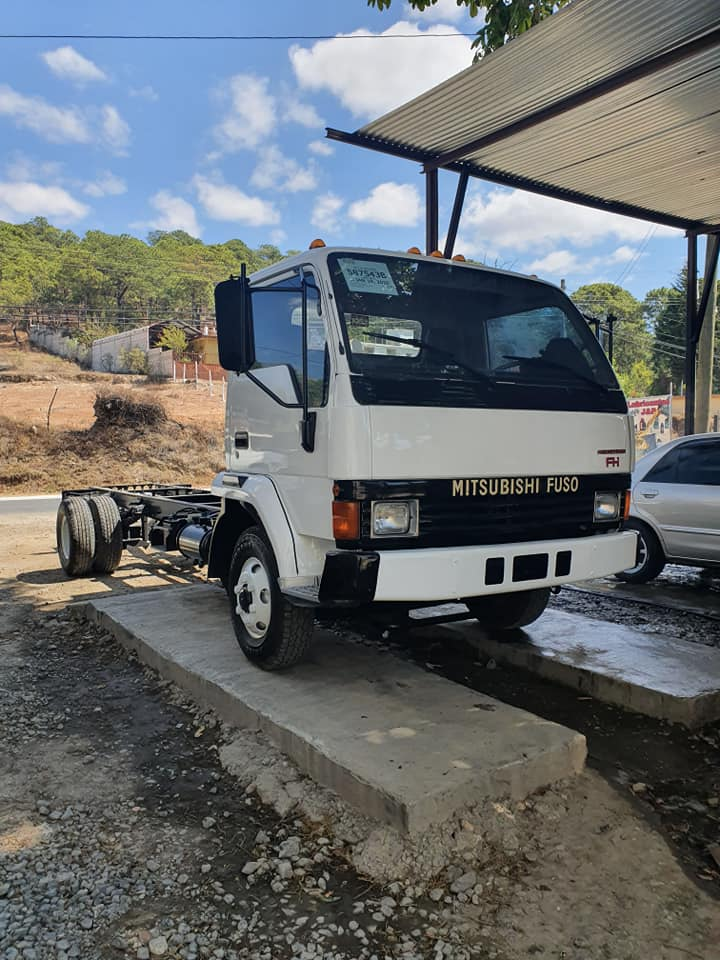camion: (41, 234, 634, 658)
